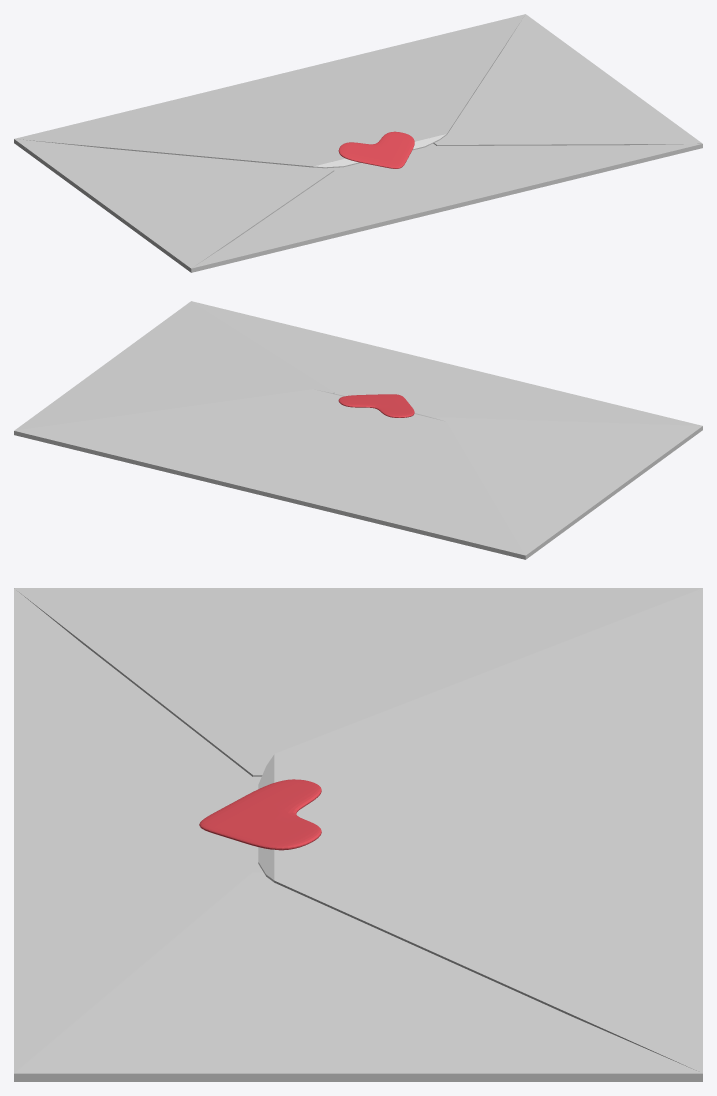
3 views of the same model, one above another, from view 1: azimuth 30°, elevation 25°; view 2: azimuth 150°, elevation 25°; view 3: azimuth 270°, elevation 25° (orthographic). The views are drawn at different scales.
Parts seen in each view (by area): view 1: 平面.003, 平面.005, 平面.004, 平面.002, 立方体, 平面.008, 平面, 平面.006, 平面.009; view 2: 平面.003, 平面.004, 平面.005, 平面.002, 平面.007, 立方体, 平面, 平面.006; view 3: 平面.003, 平面.002, 平面.005, 平面.004, 立方体, 平面.001, 平面, 平面.009.
Boxes of the visible parts, x1,y1,x2,y2 form: 平面.003: (14, 14, 525, 167); 平面.005: (191, 143, 702, 269); 平面.004: (14, 138, 334, 269); 平面.002: (433, 14, 702, 145); 立方体: (338, 131, 414, 168); 平面.008: (191, 145, 702, 271); 平面: (14, 142, 702, 272); 平面.006: (14, 140, 191, 271); 平面.009: (313, 134, 446, 168); 平面.003: (14, 389, 525, 556); 平面.004: (435, 417, 702, 556); 平面.005: (192, 301, 702, 425); 平面.002: (14, 301, 334, 430); 平面.007: (14, 432, 525, 558); 立方体: (338, 394, 414, 417); 平面: (14, 429, 702, 559); 平面.006: (525, 427, 702, 558); 平面.003: (274, 588, 702, 1073); 平面.002: (14, 872, 702, 1075); 平面.005: (14, 588, 262, 1072); 平面.004: (14, 588, 702, 776); 立方体: (199, 779, 321, 850); 平面.001: (14, 1075, 702, 1079); 平面: (14, 1079, 702, 1081); 平面.009: (258, 754, 274, 882).
Size of the model in its own units: 50.01 by 1.43 by 30.
